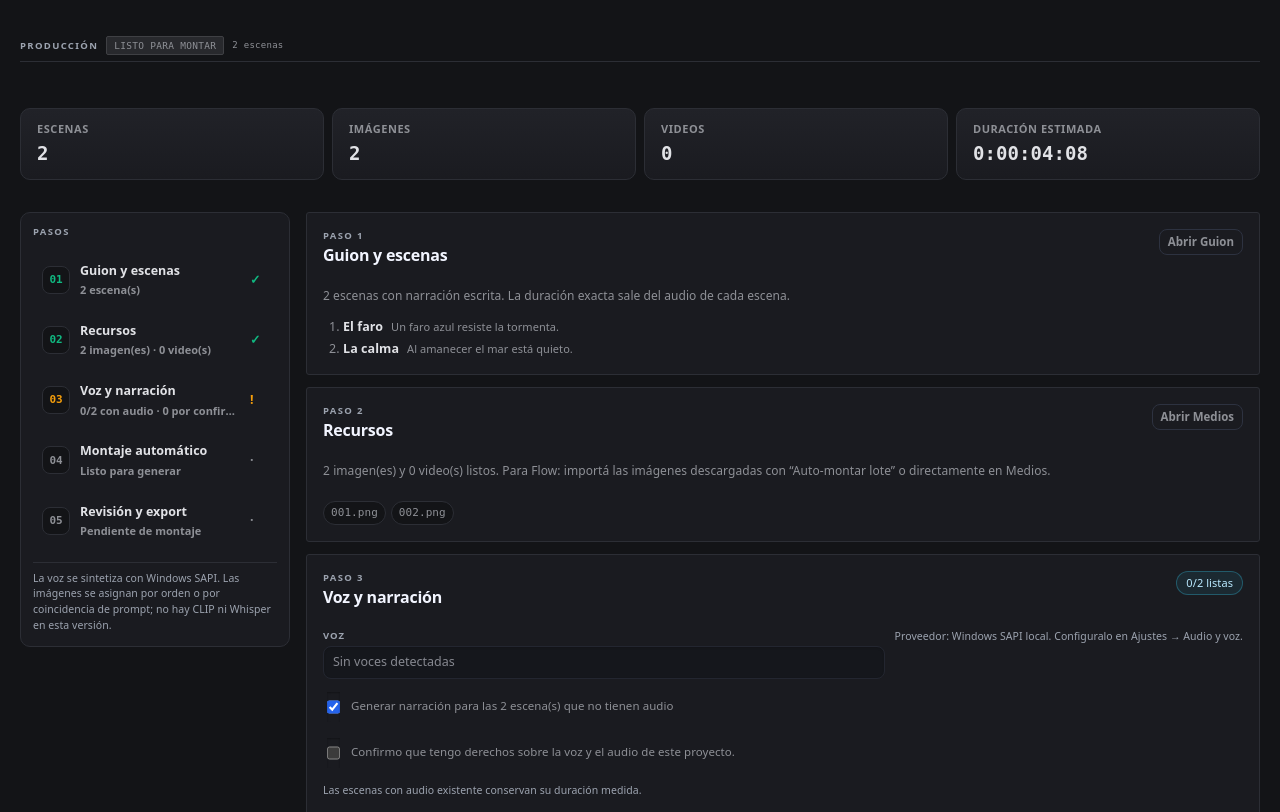
Test case: ProductionView · video automático › sintetiza la voz por escena y arma la timeline con subtítulos
Step 1. Click the checkbox labelled "derechos sobre la voz" → (334, 753), box [327,738,340,768]
(page scrolled)
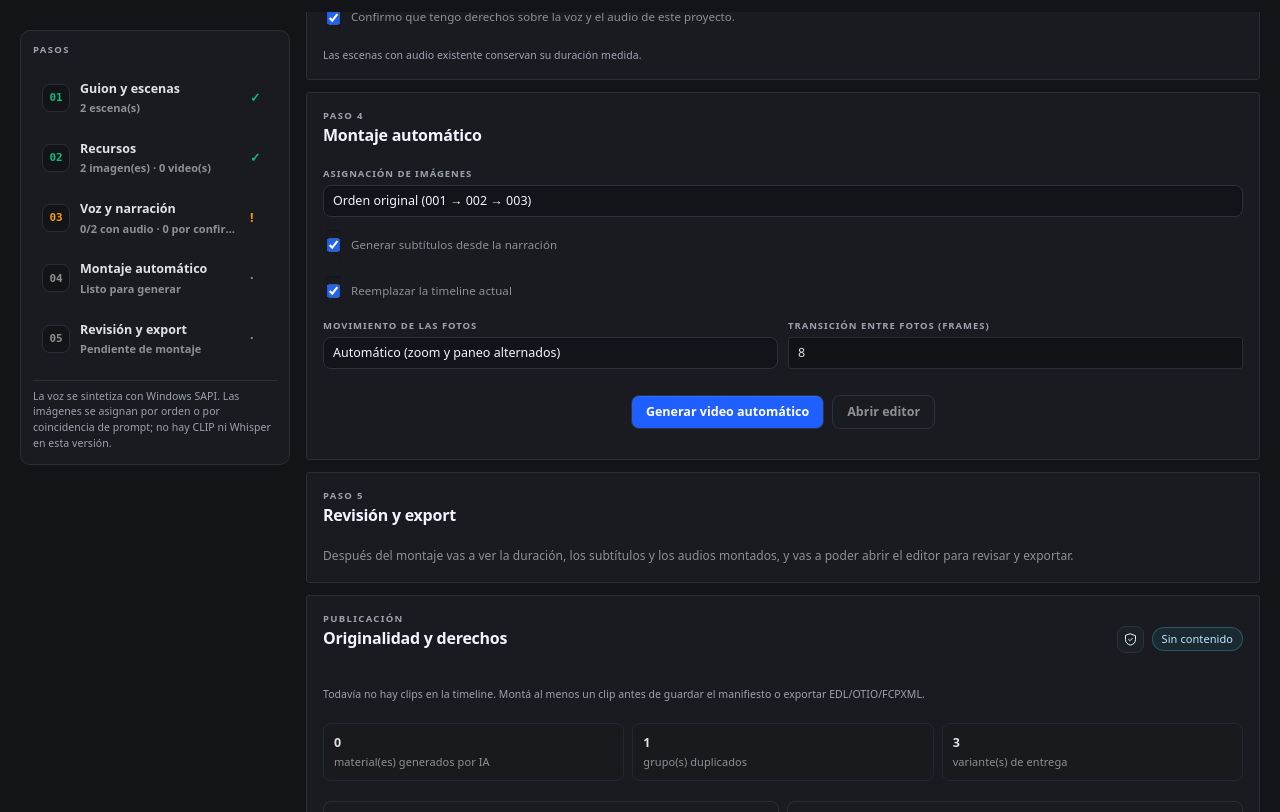
Expected: the button "Generar video automático" is enabled
Step 2. Click the button "Generar video automático" → (728, 412), box [631,395,824,429]
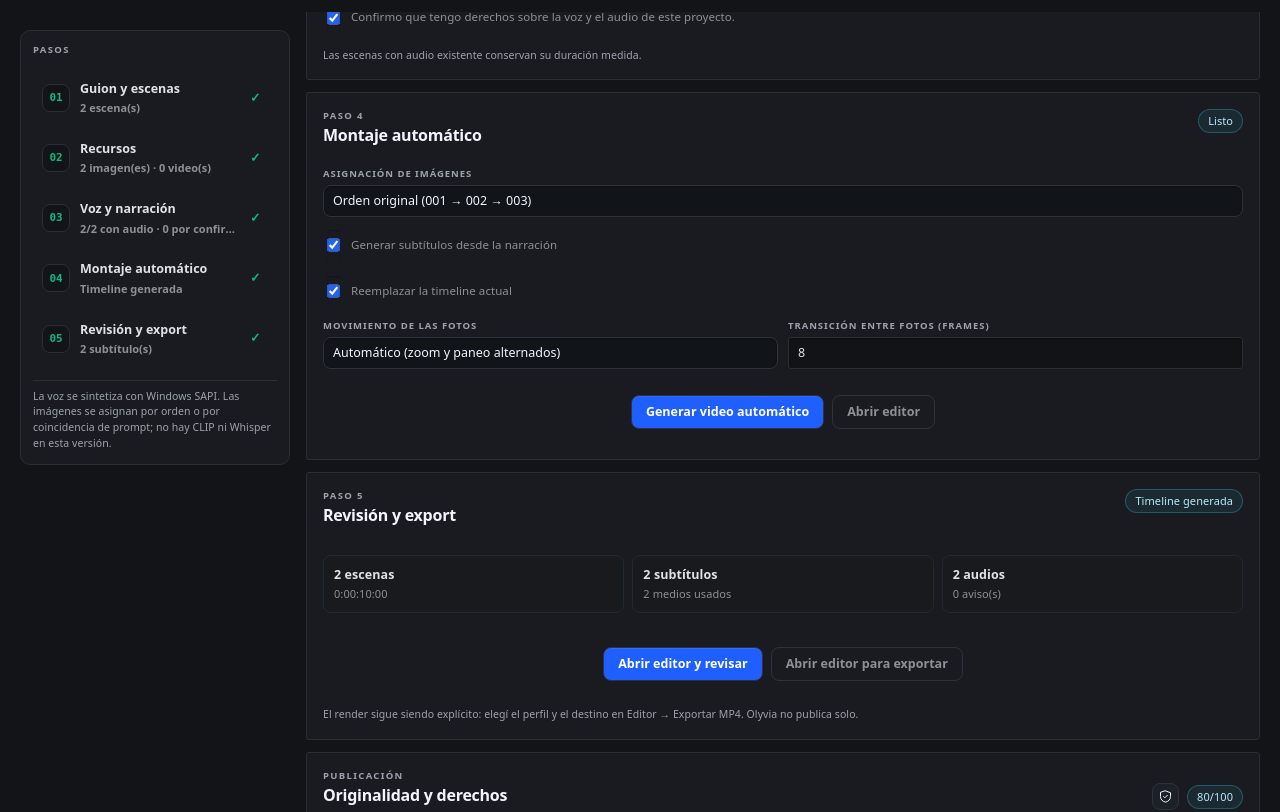
Expected: the text "2 subtítulos" is shown, [643,566,718,583]
Expected: the button "Abrir editor y revisar" is shown, [603,647,763,681]
